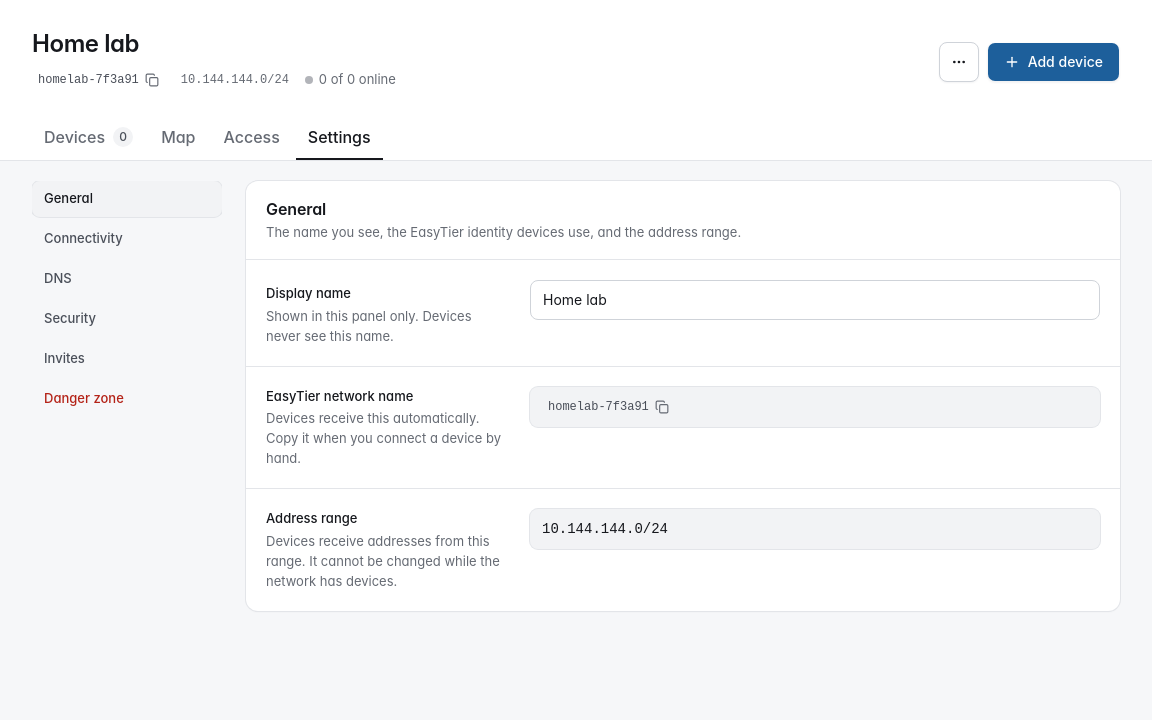
Test: NetworkSettingsPage › shows invite status without the one-time token warning
This screenshot has width=1152, height=720.
Step 1. Click the button "Invites" → [127, 359], box [32, 341, 222, 377]
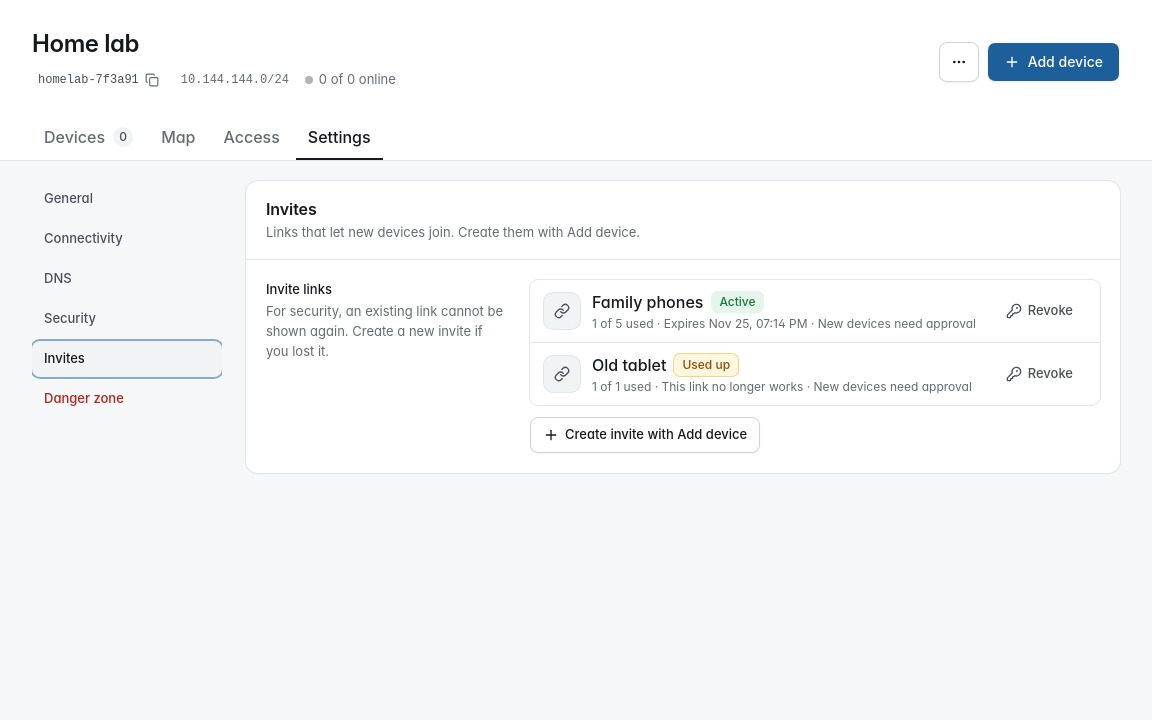
Now the text "Family phones" is shown, box [592, 290, 703, 314]
Now the text "1 of 5 used" is shown, box [592, 316, 654, 330]
Now the text "New devices need approval" is shown, box [818, 316, 976, 330]
